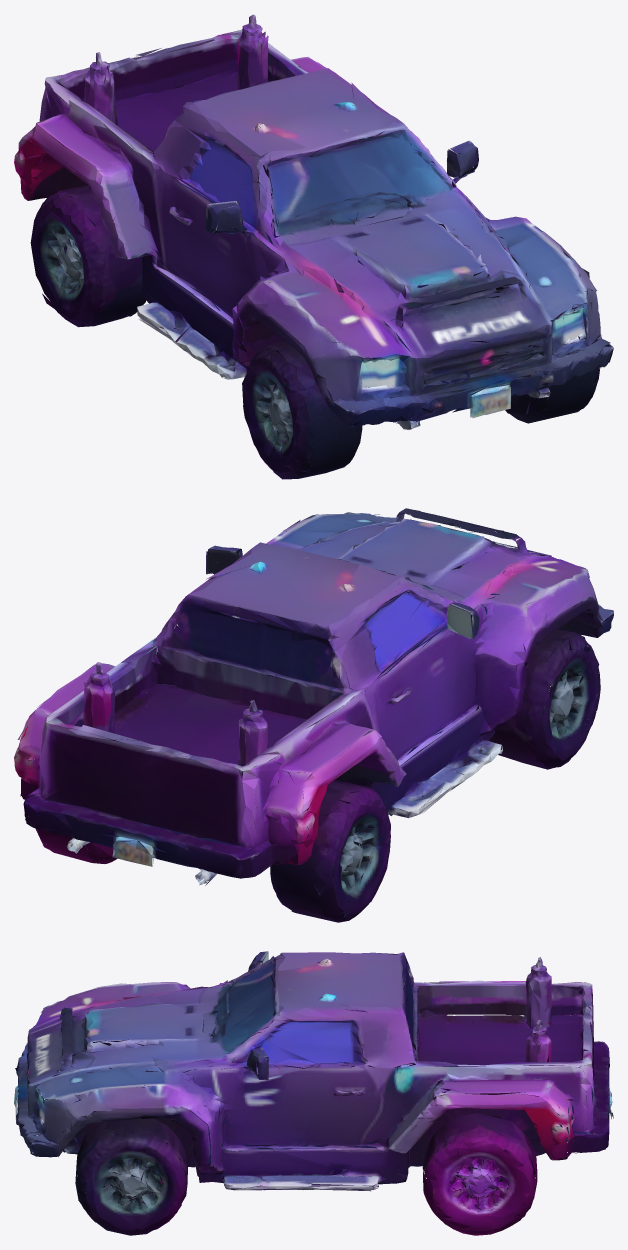
The model's file is timeattack_armor.glb.
3 renders of one model, top to bottom at view 1: azimuth 30°, elevation 25°; view 2: azimuth 150°, elevation 25°; view 3: azimuth 270°, elevation 25°, orthographic. The views are drawn at different scales.
Visible parts, largest first — view 1: Armor_Time_Attack; view 2: Armor_Time_Attack; view 3: Armor_Time_Attack.
Boxes of the visible parts, <box> form: Armor_Time_Attack: <box>14,14,613,479</box>; Armor_Time_Attack: <box>14,508,613,922</box>; Armor_Time_Attack: <box>14,951,613,1235</box>.
Size of the model in its own units: 0.5896 by 0.4494 by 1.21.
1 material, 1 textured.
